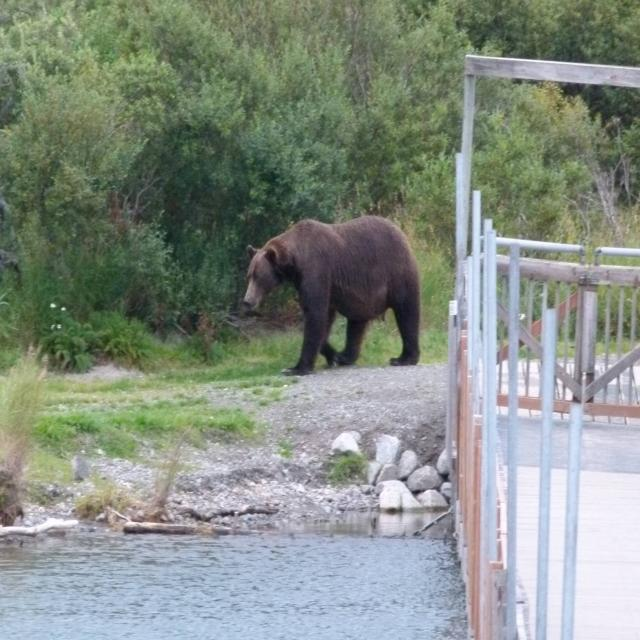bear face: (242, 214, 419, 366)
